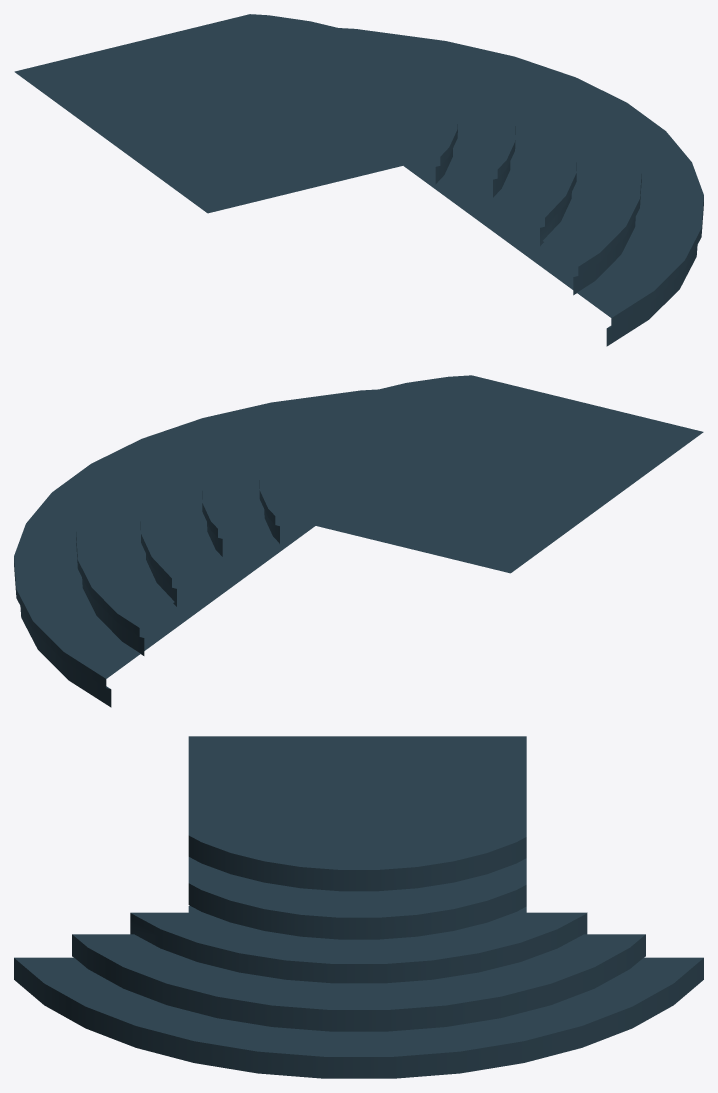
File: stairs.fbx
3 renders of one model, top to bottom at view 1: azimuth 30°, elevation 25°; view 2: azimuth 150°, elevation 25°; view 3: azimuth 270°, elevation 25°, orthographic. The views are drawn at different scales.
Visible parts, largest first — view 1: stairs; view 2: stairs; view 3: stairs.
Boxes of the visible parts, x1,y1,x2,y2 form: stairs: (14,14,703,346); stairs: (14,375,703,707); stairs: (14,736,703,1078).
Bounding box in the file's own units: 326 × 77.26 × 416.
